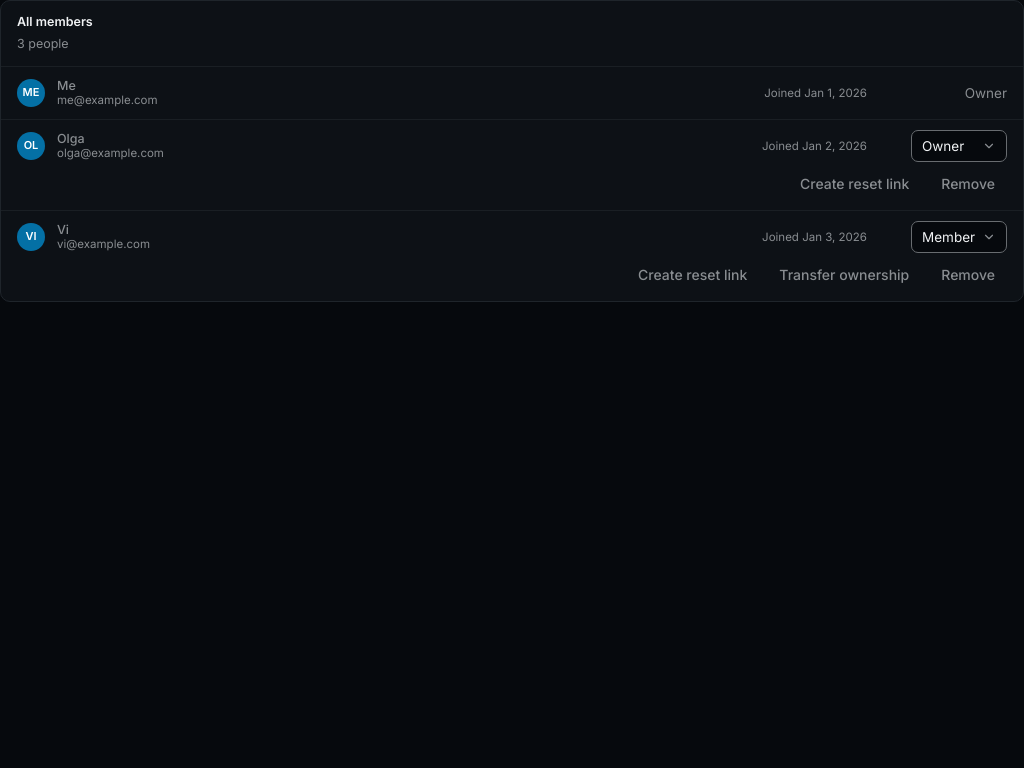
Test: Members › Create reset link › shows a refusal on the row it was for
The width and height of the screenshot is (1024, 768).
Step 1. Click the button with aria-label "Create reset link for Vi" → (693, 275), box [626,259,759,291]
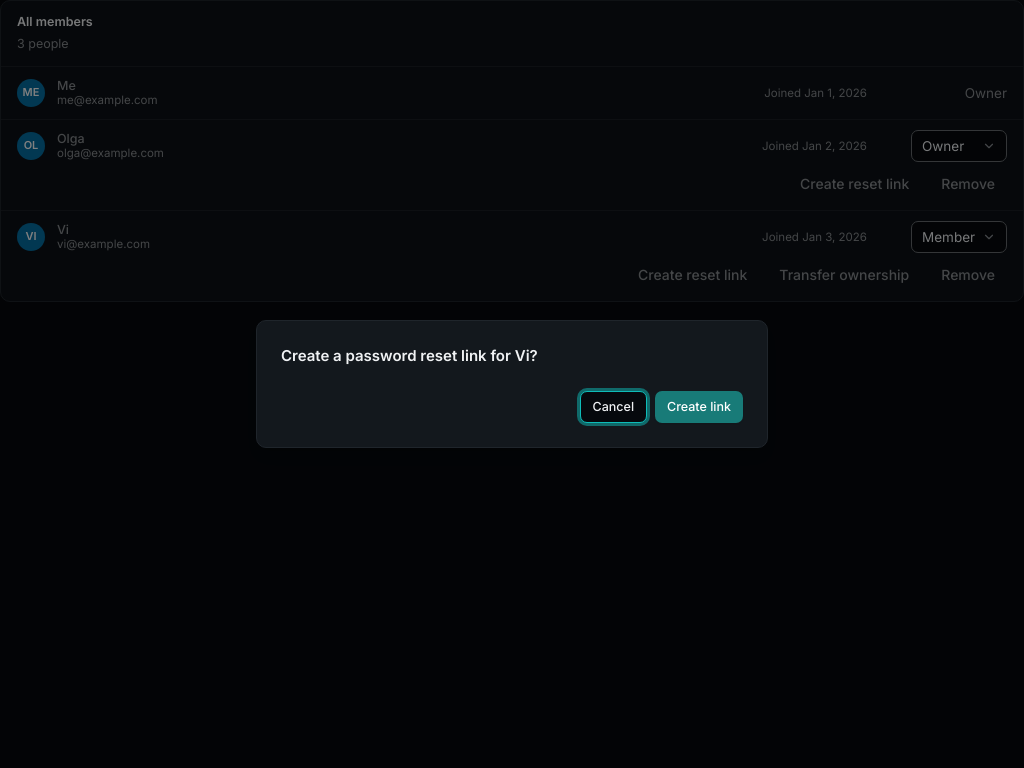
Step 2. Click the button "Create link" → (699, 407), box [655,391,743,423]
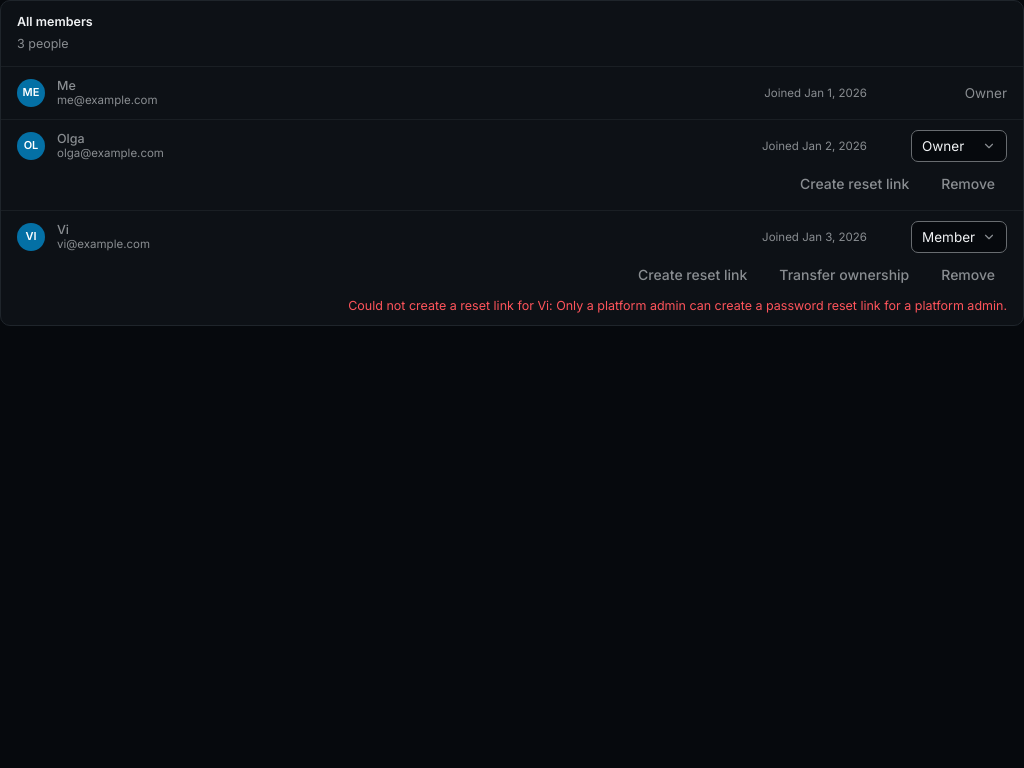
Now the message shows "Could not create a reset link for Vi: Only a platform admin", box [348,298,1007,313]
